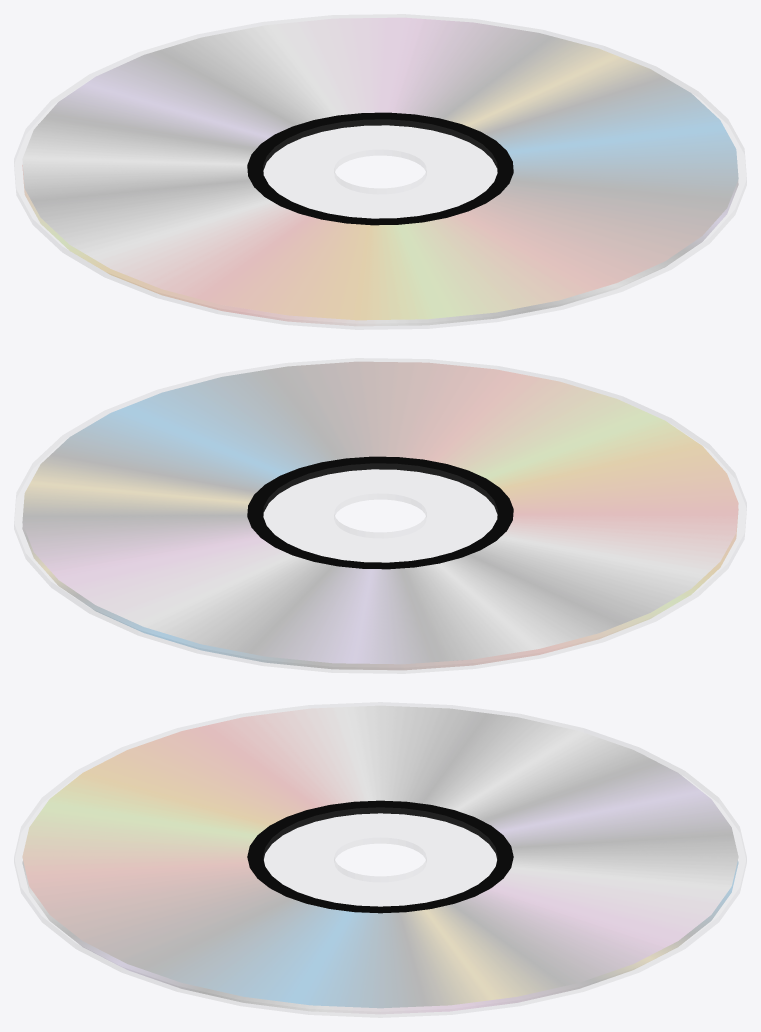
3 views of the same model, one above another, from view 1: azimuth 30°, elevation 25°; view 2: azimuth 150°, elevation 25°; view 3: azimuth 270°, elevation 25° (orthographic).
Visible parts, largest first — view 1: CD; view 2: CD; view 3: CD.
Boxes of the visible parts, x1,y1,x2,y2 form: CD: (14,14,746,329); CD: (14,358,746,673); CD: (14,702,746,1017).
Bounding box in the file's own units: 837 × 7.66 × 837.
Materials: 3 (1 with a texture image).
